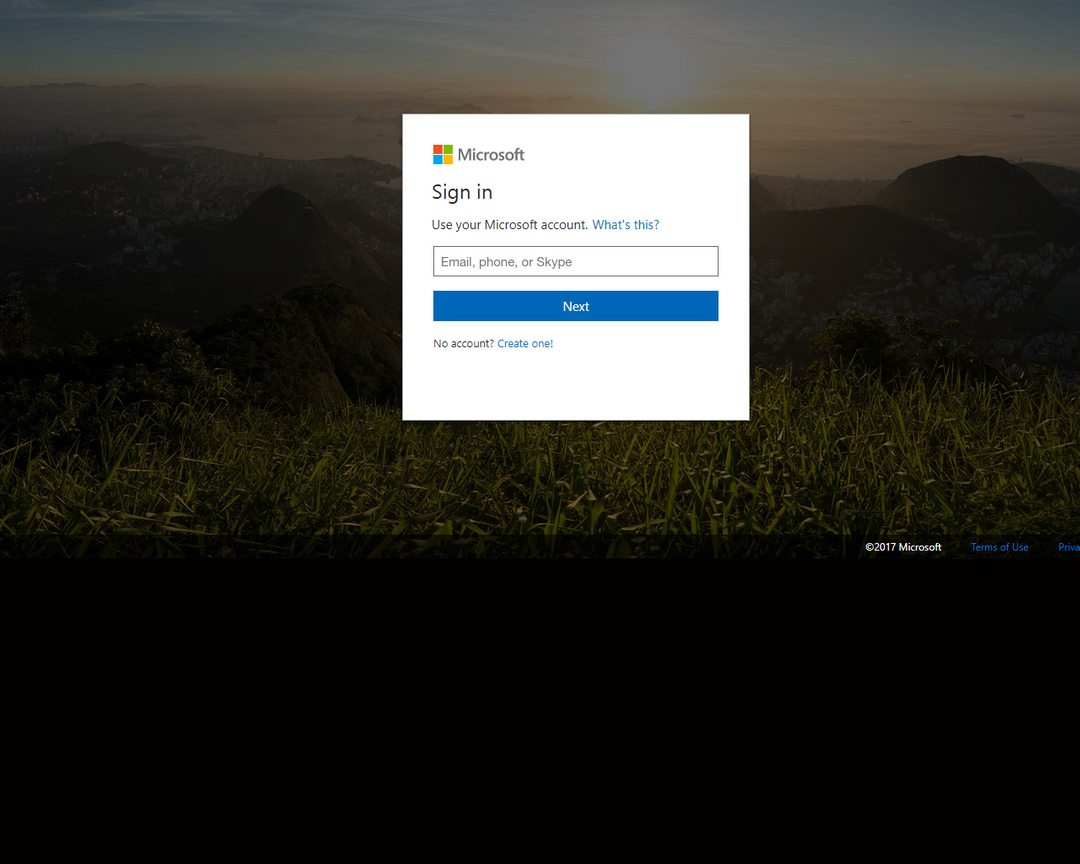Microsoft: (426, 139, 532, 174)
